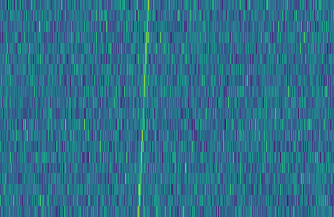signal: (134, 0, 152, 217)
